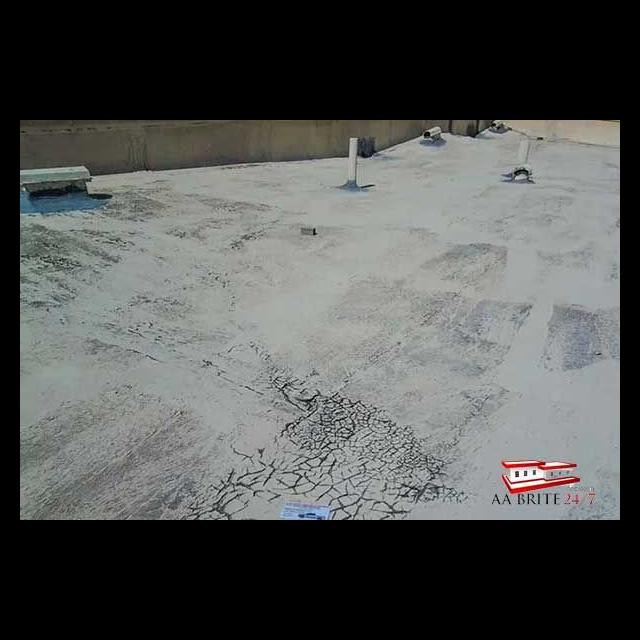retak_kulit_buaya: (242, 375, 446, 498)
